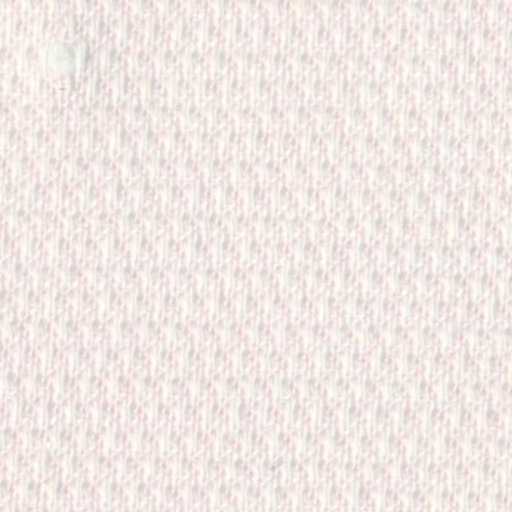MianQiu: (28, 22, 116, 106)
